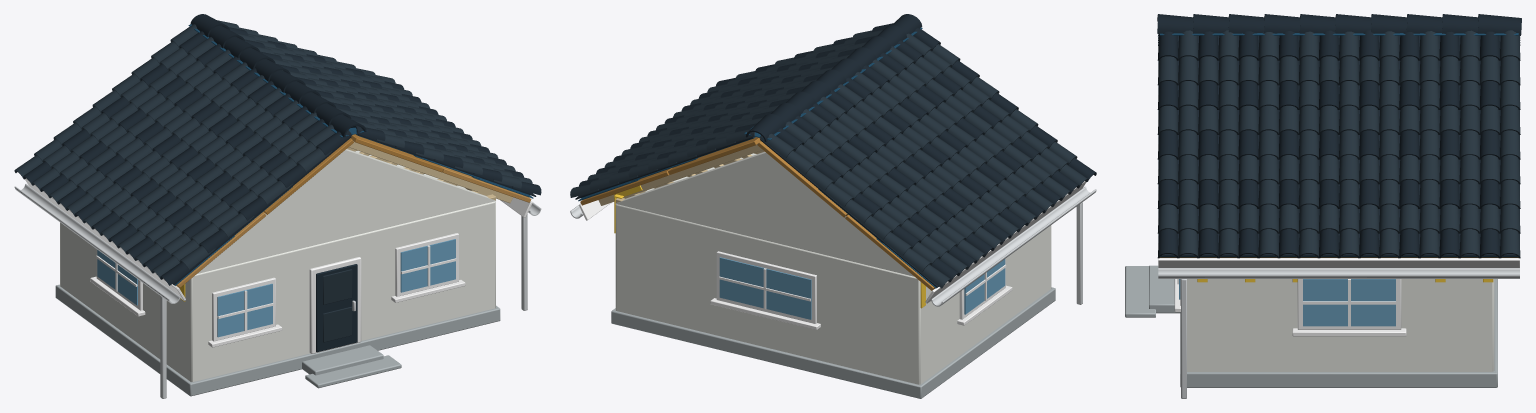
The model's file is alero-house.glb.
3 renders of one model, left to right at view 1: azimuth 30°, elevation 25°; view 2: azimuth 150°, elevation 25°; view 3: azimuth 270°, elevation 25°, orthographic. The views are drawn at different scales.
Visible parts, largest first — view 1: BodyMesh, TilesMesh, FrameMesh, PlywoodMesh, MembraneMesh; view 2: BodyMesh, TilesMesh, FrameMesh, PlywoodMesh, MembraneMesh; view 3: TilesMesh, BodyMesh, FrameMesh, MembraneMesh.
Part boxes in pixels (bbox=[...]): BodyMesh: bbox=[55, 149, 500, 396]; TilesMesh: bbox=[14, 14, 541, 285]; FrameMesh: bbox=[14, 141, 541, 398]; PlywoodMesh: bbox=[176, 134, 531, 288]; MembraneMesh: bbox=[174, 24, 533, 285]; BodyMesh: bbox=[611, 151, 1055, 398]; TilesMesh: bbox=[570, 14, 1096, 288]; FrameMesh: bbox=[570, 144, 1096, 306]; PlywoodMesh: bbox=[580, 137, 935, 290]; MembraneMesh: bbox=[578, 27, 936, 288]; TilesMesh: bbox=[1157, 14, 1521, 258]; BodyMesh: bbox=[1125, 265, 1497, 387]; FrameMesh: bbox=[1158, 258, 1519, 398]; MembraneMesh: bbox=[1159, 33, 1518, 257].
Size of the model in its own units: 4.93 by 3.03 by 3.84.
